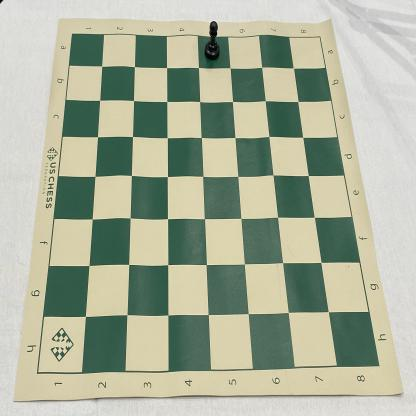black-pawn: (204, 21, 221, 61)
